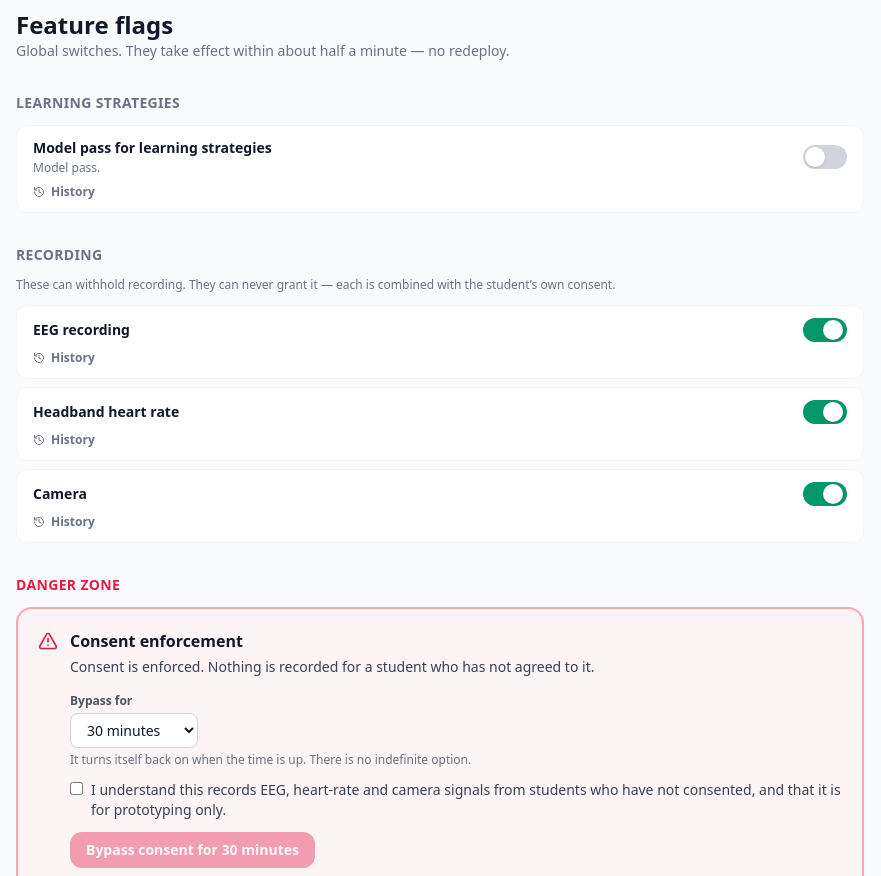
Test: clears the acknowledgement once enforcement is back on
Expected: the heading "Consent enforcement" is shown, [70,630,243,652]
Click the checkbox: (76, 788) [70,782,83,795]
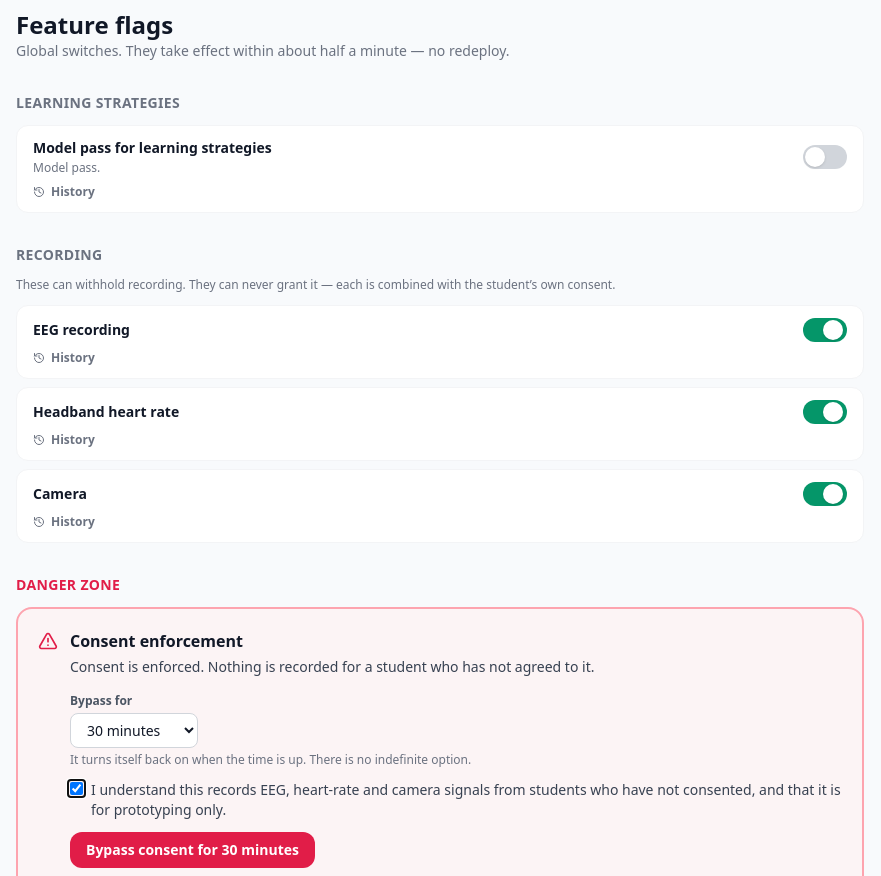
Expected: the checkbox is checked, [70,782,83,795]
Click the button "Bypass consent for 30 minutes": (192, 850) [70,832,315,868]
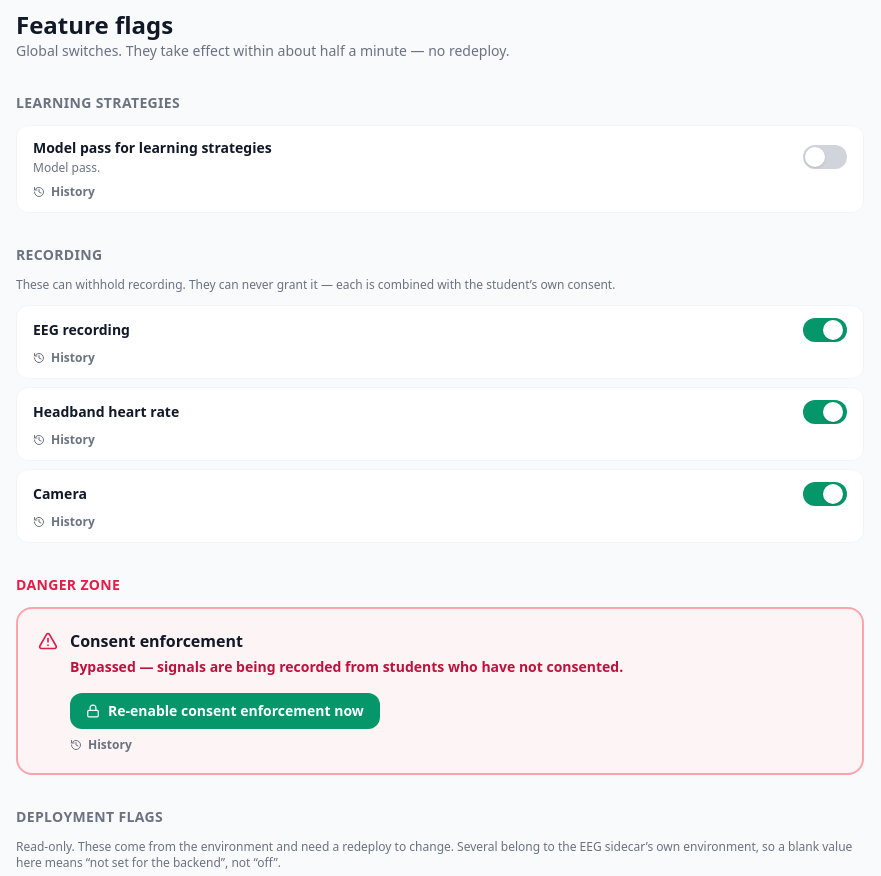
Click the button "Re-enable consent enforcement now": (225, 711) [70,693,380,729]
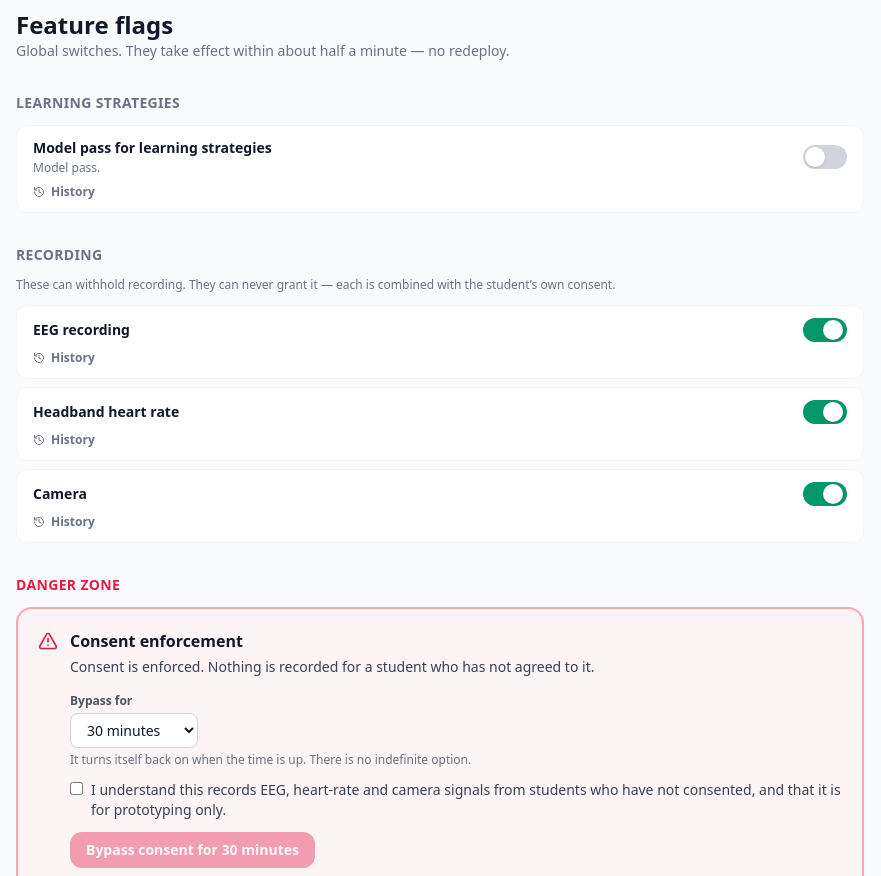
Expected: the checkbox is not checked, [70,782,83,795]
Expected: the button "Bypass consent for 30 minutes" is disabled, [70,832,315,868]
